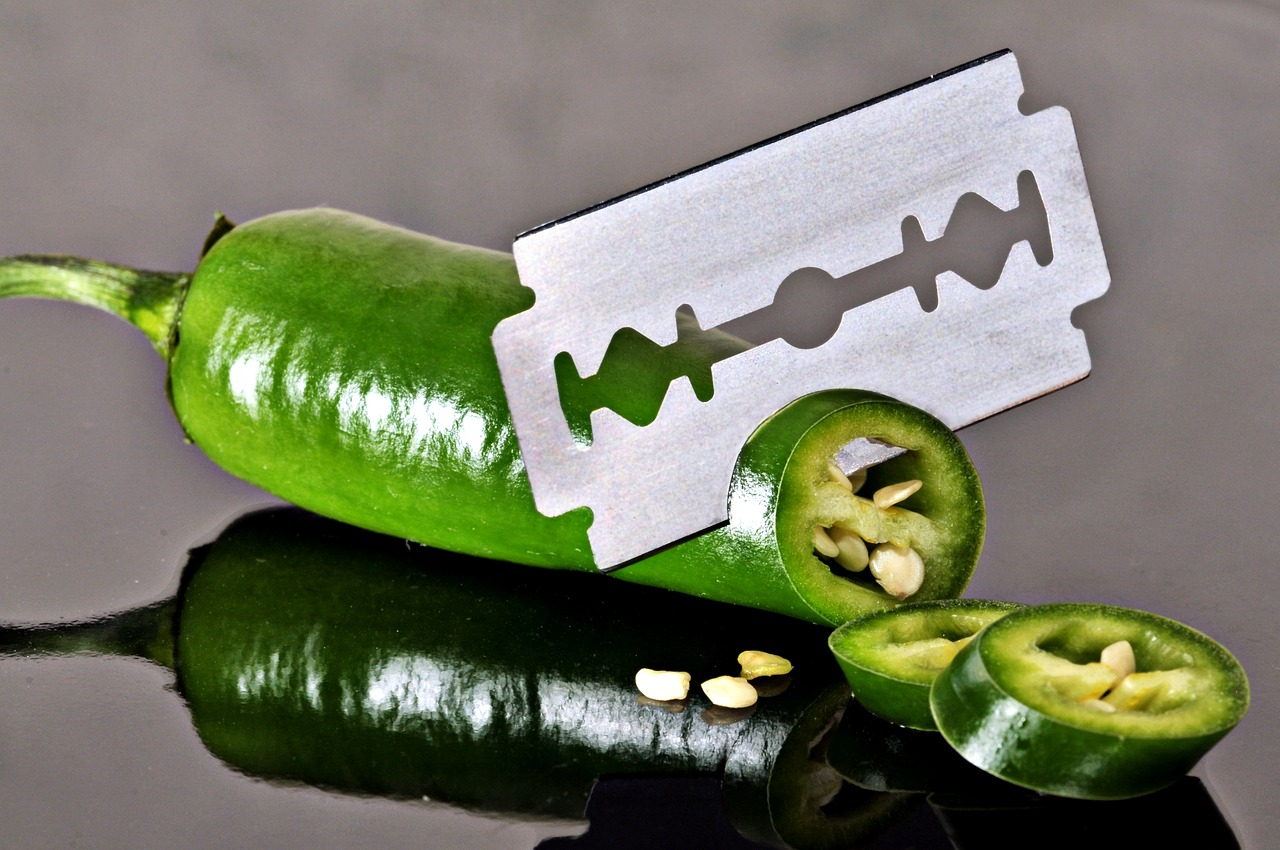knife: (490, 38, 1111, 587)
